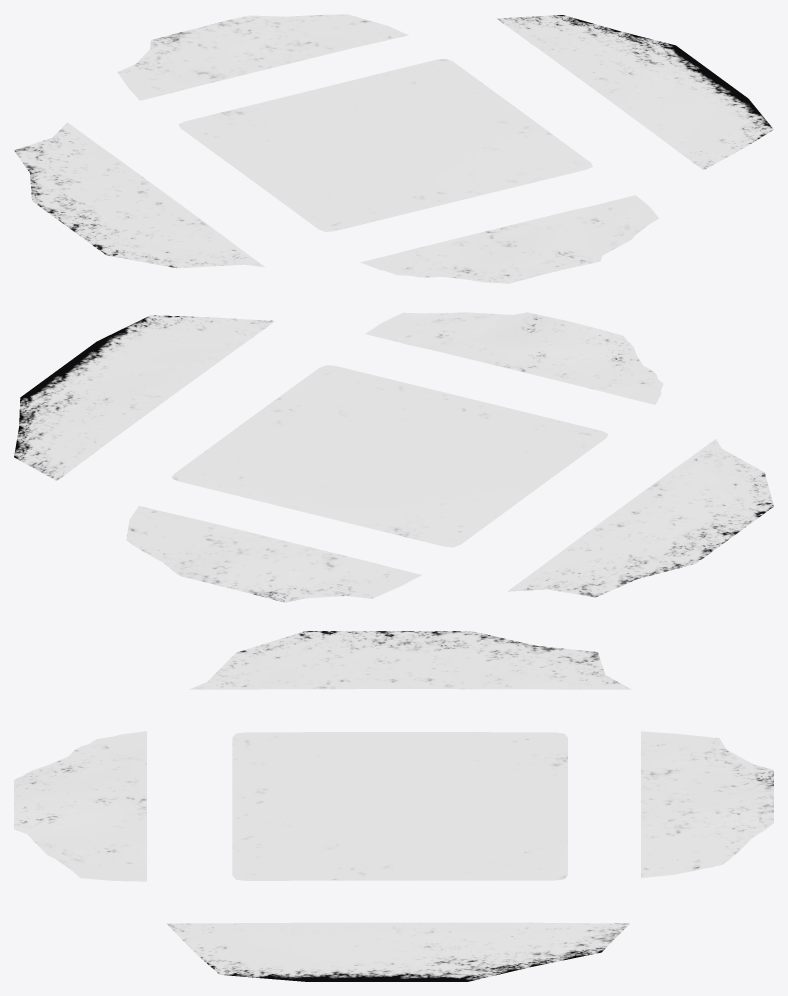
File: powder2.FBX
3 views of the same model, one above another, from view 1: azimuth 30°, elevation 25°; view 2: azimuth 150°, elevation 25°; view 3: azimuth 270°, elevation 25° (orthographic). The views are drawn at different scales.
Parts seen in each view (by area): view 1: Object016, Object017, Object018, Object019, Object020; view 2: Object016, Object017, Object018, Object019, Object020; view 3: Object016, Object017, Object018, Object019, Object020.
Boxes of the visible parts, left/top/right/bottom form: Object016: left=178, top=59, right=592, bottom=231; Object017: left=496, top=15, right=773, bottom=170; Object018: left=14, top=122, right=264, bottom=268; Object019: left=117, top=14, right=408, bottom=100; Object020: left=360, top=195, right=658, bottom=283; Object016: left=172, top=365, right=608, bottom=547; Object017: left=14, top=315, right=274, bottom=480; Object018: left=507, top=439, right=773, bottom=597; Object019: left=126, top=506, right=421, bottom=602; Object020: left=365, top=312, right=663, bottom=404; Object016: left=232, top=732, right=567, bottom=880; Object017: left=166, top=922, right=629, bottom=981; Object018: left=189, top=631, right=631, bottom=689; Object019: left=641, top=731, right=773, bottom=878; Object020: left=14, top=731, right=146, bottom=881.
Bounding box in the file's own units: 0.0854 × 0.000225 × 0.0782.
